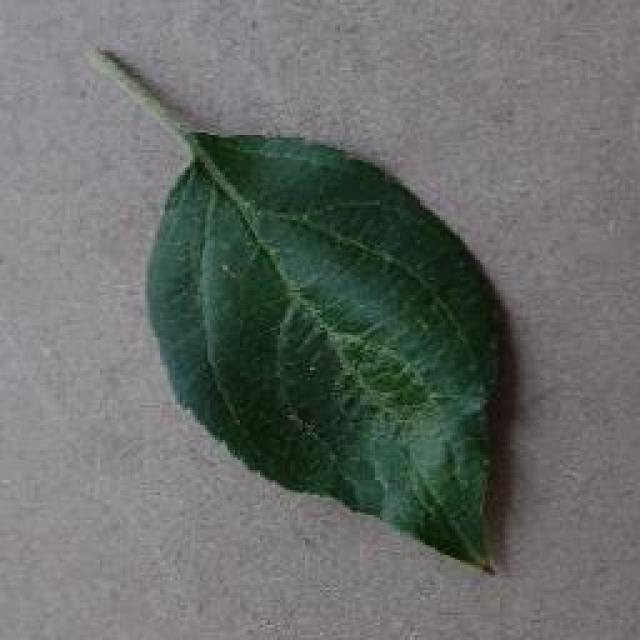apple healthy: (88, 43, 518, 575)
